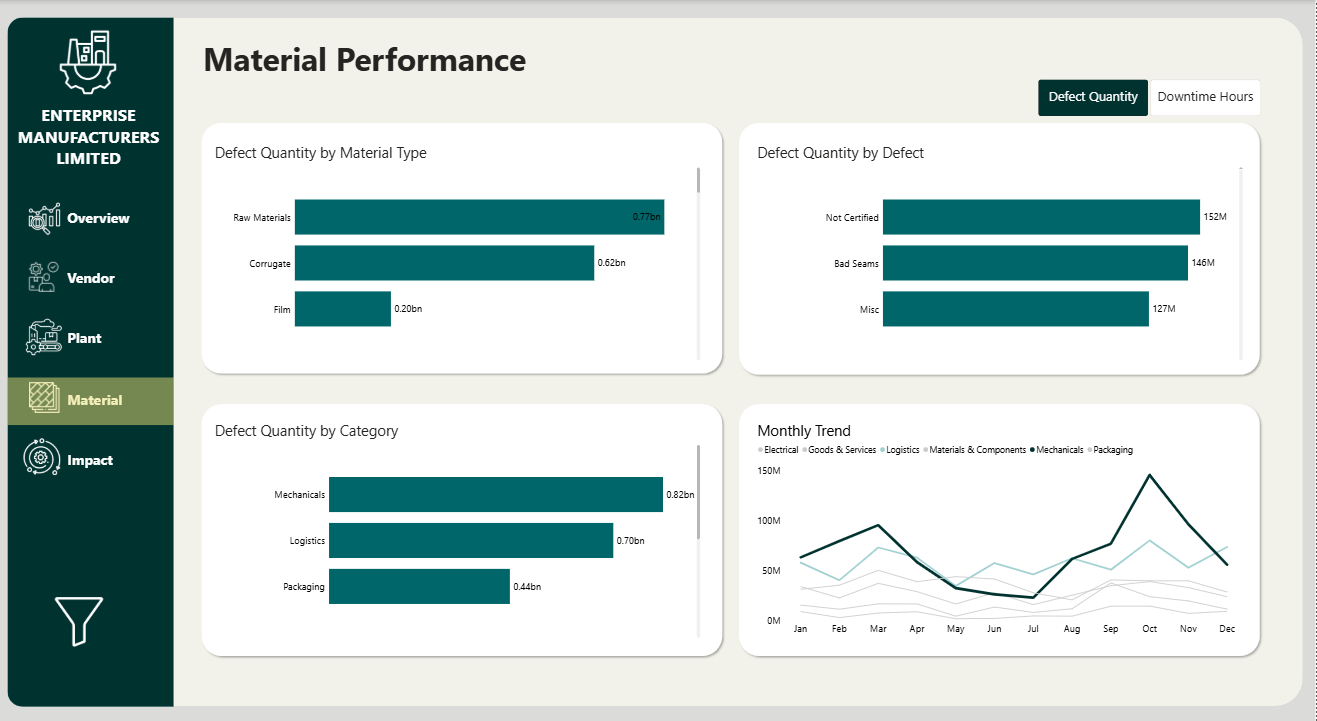

This screenshot's page, from the dashboard's own definition file:
{"tool":"powerbi","page":{"name":"Material","canvas":[3000,1650],"ordinal":4},"visuals":[{"type":"shape","box":[0,0,3000,1650.3],"z":0},{"type":"image","box":[54.2,456.1,94.1,85.5],"z":0,"group":"g1"},{"type":"textbox","box":[148.2,607.9,156.8,82.7],"z":0,"group":"g2"},{"type":"textbox","box":[148.2,745.5,156.8,82.7],"z":0,"group":"g3"},{"type":"textbox","box":[148.3,883,156.8,82.7],"z":0,"group":"g4"},{"type":"textbox","box":[148.3,1020.6,156.8,82.7],"z":0,"group":"g5"},{"type":"image","box":[116.9,1356.9,128.3,122.6],"z":0,"group":"g6"},{"type":"shape","box":[30.1,39.9,2939.9,1570.2],"z":1000},{"type":"textbox","box":[148.3,470.4,156.8,82.7],"z":1000,"group":"g1"},{"type":"image","box":[51.3,590.1,96.9,82.7],"z":1000,"group":"g2"},{"type":"image","box":[51.3,718.4,96.9,99.8],"z":1000,"group":"g3"},{"type":"image","box":[54.2,866.6,94.1,79.8],"z":1000,"group":"g4"},{"type":"image","box":[42.8,992.1,105.5,99.8],"z":1000,"group":"g5"},{"type":"shape","box":[16,39.9,379,1571.8],"z":2000},{"type":"image","box":[76.8,63.8,247.3,159.6],"z":3000},{"type":"textbox","box":[27.9,231.4,347.1,187.5],"z":4000},{"type":"textbox","box":[451,80.2,761.7,120.3],"z":5000},{"type":"shape","box":[450.4,270.8,1205.9,590.1],"z":6000},{"type":"advancedSlicerVisual","fields":{"Values":["Overview .Overview "]},"box":[2361.9,177.1,517.8,93.5],"z":7000},{"type":"shape","box":[1676.2,270.8,1205.9,593],"z":8000},{"type":"shape","box":[450.4,912.2,1205.9,593],"z":9000},{"type":"shape","box":[1676.2,912.2,1205.9,593],"z":10000},{"type":"clusteredBarChart","fields":{"Y":["Defect Quantity.Total Defect Qty"],"Category":["Material Type.Material Type"]},"box":[484.6,325,1117.5,501.7],"z":11000},{"type":"clusteredBarChart","fields":{"Y":["Defect Quantity.Total Defect Qty"],"Category":["Defect.Defect"]},"box":[1721.8,325,1117.5,501.7],"z":12000},{"type":"clusteredBarChart","fields":{"Y":["Defect Quantity.Total Defect Qty"],"Category":["Category.Category"]},"box":[484.6,957.8,1117.5,501.7],"z":13000},{"type":"lineChart","title":"Monthly Trend","fields":{"Y":["Defect Quantity.Total Defect Qty"],"Category":["Date.Month Name Short"],"Series":["Category.Category"]},"box":[1721.8,957.8,1117.5,501.7],"z":14000},{"type":"group","id":"g1","title":"Group 2","box":[54.2,456.1,250.9,96.9],"z":15000},{"type":"group","id":"g2","title":"Group 3","box":[51.3,590.1,253.7,100.5],"z":16000},{"type":"group","id":"g3","title":"Group 4","box":[51.3,718.4,253.7,109.8],"z":17000},{"type":"group","id":"g4","title":"Group 5","box":[54.2,866.6,250.9,99.1],"z":18000},{"type":"group","id":"g5","title":"Group 6","box":[42.8,992.1,262.3,111.2],"z":19000},{"type":"shape","box":[16.9,860.8,379.6,108.5],"z":20000},{"type":"shape","box":[16.9,718.5,379.6,108.5],"z":21000},{"type":"shape","box":[16.9,999.8,379.6,108.5],"z":22000},{"type":"shape","box":[16.9,444,379.6,108.5],"z":23000},{"type":"shape","box":[16.9,576.1,379.6,108.5],"z":24000},{"type":"group","id":"g6","title":"Material Filter","box":[116.9,442.2,716.8,1037.3],"z":25000}]}

Visuals, with their boxes in screenshot pixels (x1, y1, x2, y2), scaled from the page's 3000x1650 canvas onto the 1317x721 screenshot:
shape: 0:0:1316:720
image: 24:199:65:237
textbox: 65:266:134:302
textbox: 65:326:134:362
textbox: 65:386:134:422
textbox: 65:446:134:482
image: 51:593:108:646
shape: 13:17:1304:704
textbox: 65:206:134:242
image: 23:258:65:294
image: 23:314:65:358
image: 24:379:65:414
image: 19:434:65:477
shape: 7:17:173:704
image: 34:28:142:98
textbox: 12:101:165:183
textbox: 198:35:532:88
shape: 198:118:727:376
advancedSlicerVisual - Overview .Overview : 1037:77:1264:118
shape: 736:118:1265:377
shape: 198:399:727:658
shape: 736:399:1265:658
clusteredBarChart - Defect Quantity.Total Defect Qty x Material Type.Material Type: 213:142:703:361
clusteredBarChart - Defect Quantity.Total Defect Qty x Defect.Defect: 756:142:1246:361
clusteredBarChart - Defect Quantity.Total Defect Qty x Category.Category: 213:419:703:638
"Monthly Trend" lineChart: 756:419:1246:638
"Group 2" group: 24:199:134:242
"Group 3" group: 23:258:134:302
"Group 4" group: 23:314:134:362
"Group 5" group: 24:379:134:422
"Group 6" group: 19:434:134:482
shape: 7:376:174:424
shape: 7:314:174:361
shape: 7:437:174:484
shape: 7:194:174:241
shape: 7:252:174:299
"Material Filter" group: 51:193:366:646
